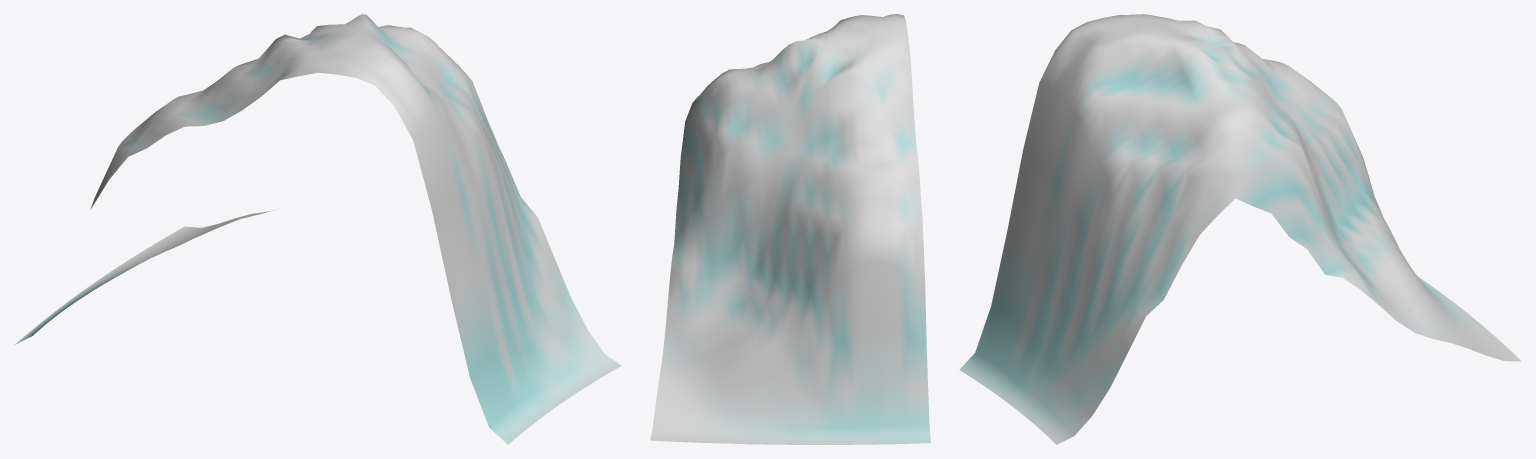
The model's file is near_7.glb.
3 views of the same model, side by side, from view 1: azimuth 30°, elevation 25°; view 2: azimuth 150°, elevation 25°; view 3: azimuth 270°, elevation 25° (orthographic). The views are drawn at different scales.
Parts seen in each view (by area): view 1: Mountain; view 2: Mountain; view 3: Mountain.
Boxes of the visible parts, x1,y1,x2,y2 form: Mountain: (15,14,621,444); Mountain: (650,14,930,444); Mountain: (959,14,1521,444).
Size of the model in its own units: 321 by 242 by 390.
